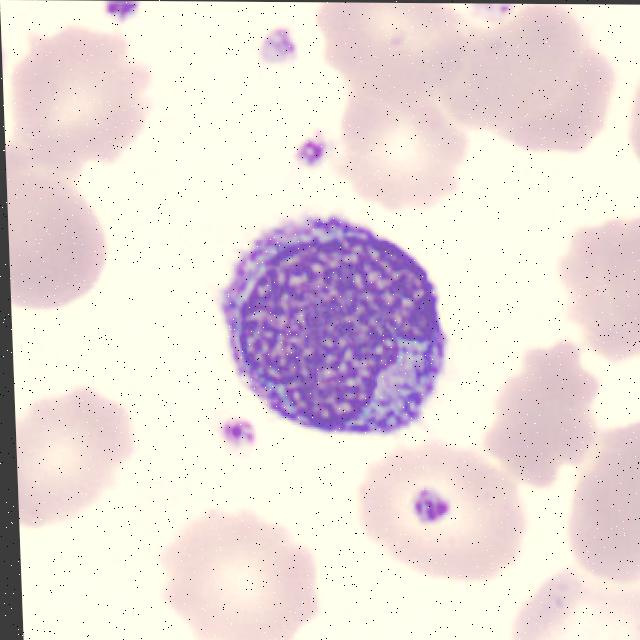monocyte: (221, 193, 452, 437)
platelets: (406, 480, 464, 532), (252, 22, 304, 67), (288, 129, 328, 173), (221, 415, 264, 455), (93, 1, 151, 21), (476, 4, 512, 27)
rbc: (363, 441, 530, 573), (158, 512, 322, 640), (5, 143, 113, 310), (336, 70, 465, 209), (485, 342, 598, 486), (15, 28, 142, 156), (311, 2, 468, 101), (451, 4, 577, 127), (20, 384, 141, 485), (16, 418, 115, 538), (571, 413, 640, 570), (562, 212, 640, 348), (508, 52, 617, 148), (511, 567, 640, 640), (628, 76, 640, 172)
